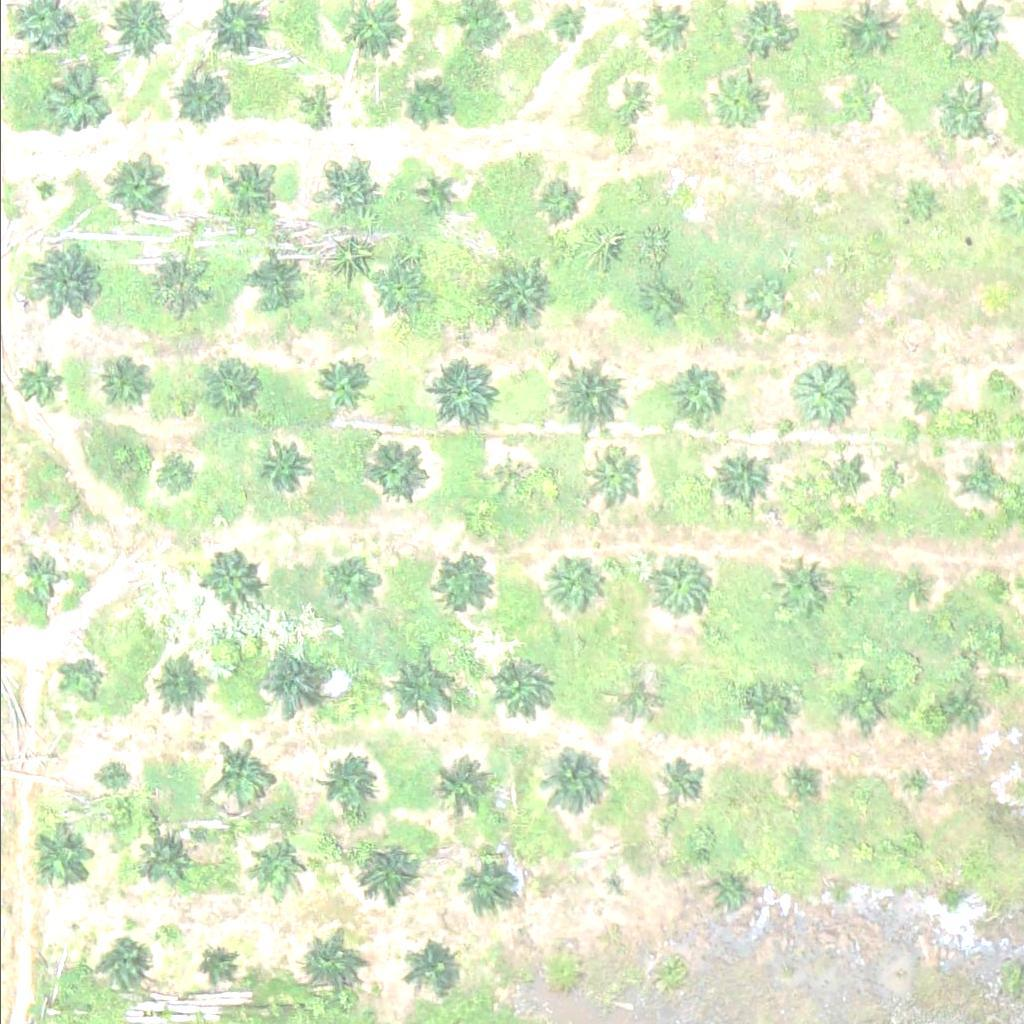Kelapa_Sawit: (298, 746, 374, 821), (379, 649, 455, 724), (526, 742, 602, 817), (424, 750, 500, 825), (26, 242, 102, 317), (39, 56, 115, 131), (196, 738, 272, 813), (546, 354, 621, 429), (432, 356, 507, 431), (248, 647, 323, 722), (322, 155, 385, 218), (794, 360, 857, 423), (462, 851, 525, 914), (360, 436, 423, 499), (253, 441, 316, 504), (103, 156, 166, 219), (32, 828, 95, 891), (142, 655, 205, 718), (137, 827, 200, 890), (194, 547, 257, 610), (484, 259, 547, 321), (667, 361, 730, 423), (931, 81, 994, 143), (300, 937, 363, 999), (710, 444, 773, 506), (400, 936, 463, 998), (430, 554, 493, 616), (355, 840, 417, 903), (488, 657, 551, 719), (766, 554, 829, 616), (733, 674, 796, 736), (646, 552, 709, 614), (535, 556, 598, 618), (581, 446, 644, 508), (144, 255, 207, 317), (832, 673, 895, 735), (175, 63, 237, 125), (369, 261, 420, 311), (318, 356, 369, 406), (956, 449, 1007, 499), (205, 360, 256, 410), (56, 660, 107, 710), (14, 554, 65, 604), (147, 453, 198, 503), (652, 755, 703, 805), (248, 256, 298, 306), (742, 7, 792, 57), (710, 77, 760, 127), (258, 836, 308, 886), (325, 555, 375, 605), (95, 355, 145, 405), (225, 160, 275, 210), (95, 937, 145, 987), (608, 670, 658, 720), (14, 361, 64, 411), (400, 76, 450, 126), (705, 869, 755, 919), (814, 450, 864, 500), (638, 2, 688, 52), (91, 755, 129, 793), (291, 92, 329, 130), (548, 5, 586, 43), (543, 953, 581, 991), (895, 767, 933, 805), (943, 691, 981, 729), (890, 570, 928, 608), (837, 82, 875, 120), (654, 180, 692, 218), (612, 86, 650, 124), (638, 285, 676, 322), (194, 941, 232, 978), (489, 460, 527, 497), (416, 171, 454, 208), (541, 185, 578, 223), (906, 377, 944, 414), (901, 185, 938, 222), (751, 280, 788, 317), (791, 769, 817, 794), (602, 873, 627, 898)
